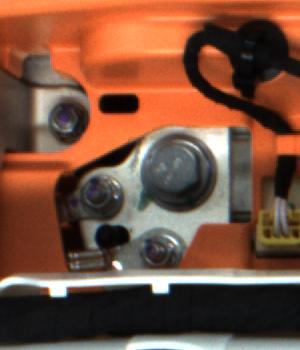nut_b: (136, 130, 221, 214)
screw_s: (139, 233, 182, 269), (79, 172, 116, 209), (47, 102, 78, 137)
